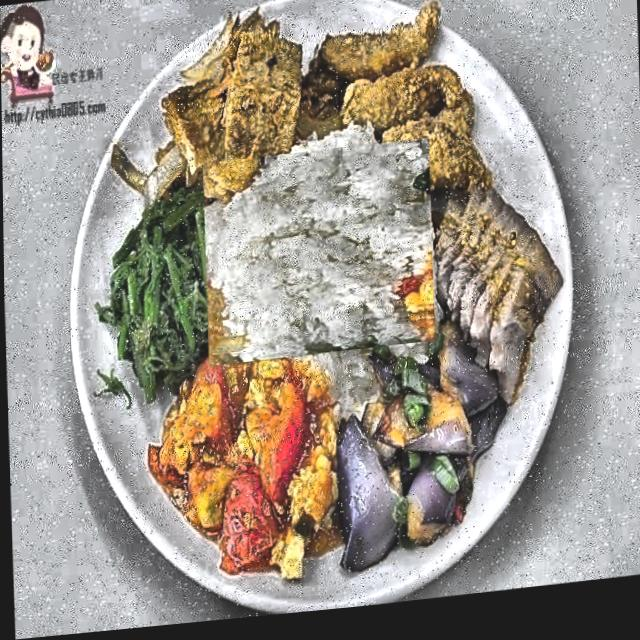Food: (207, 140, 429, 375)
